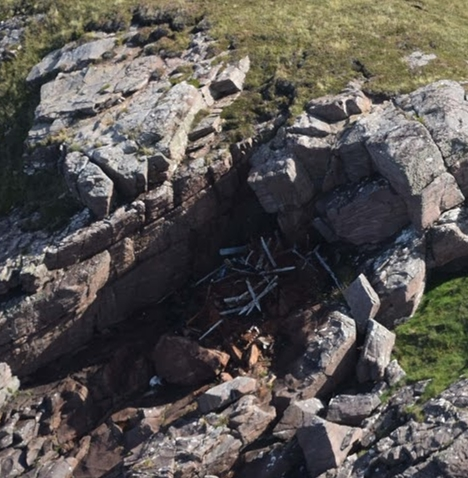white_in_green: (124, 350, 189, 409)
wood_together: (192, 227, 307, 324)
